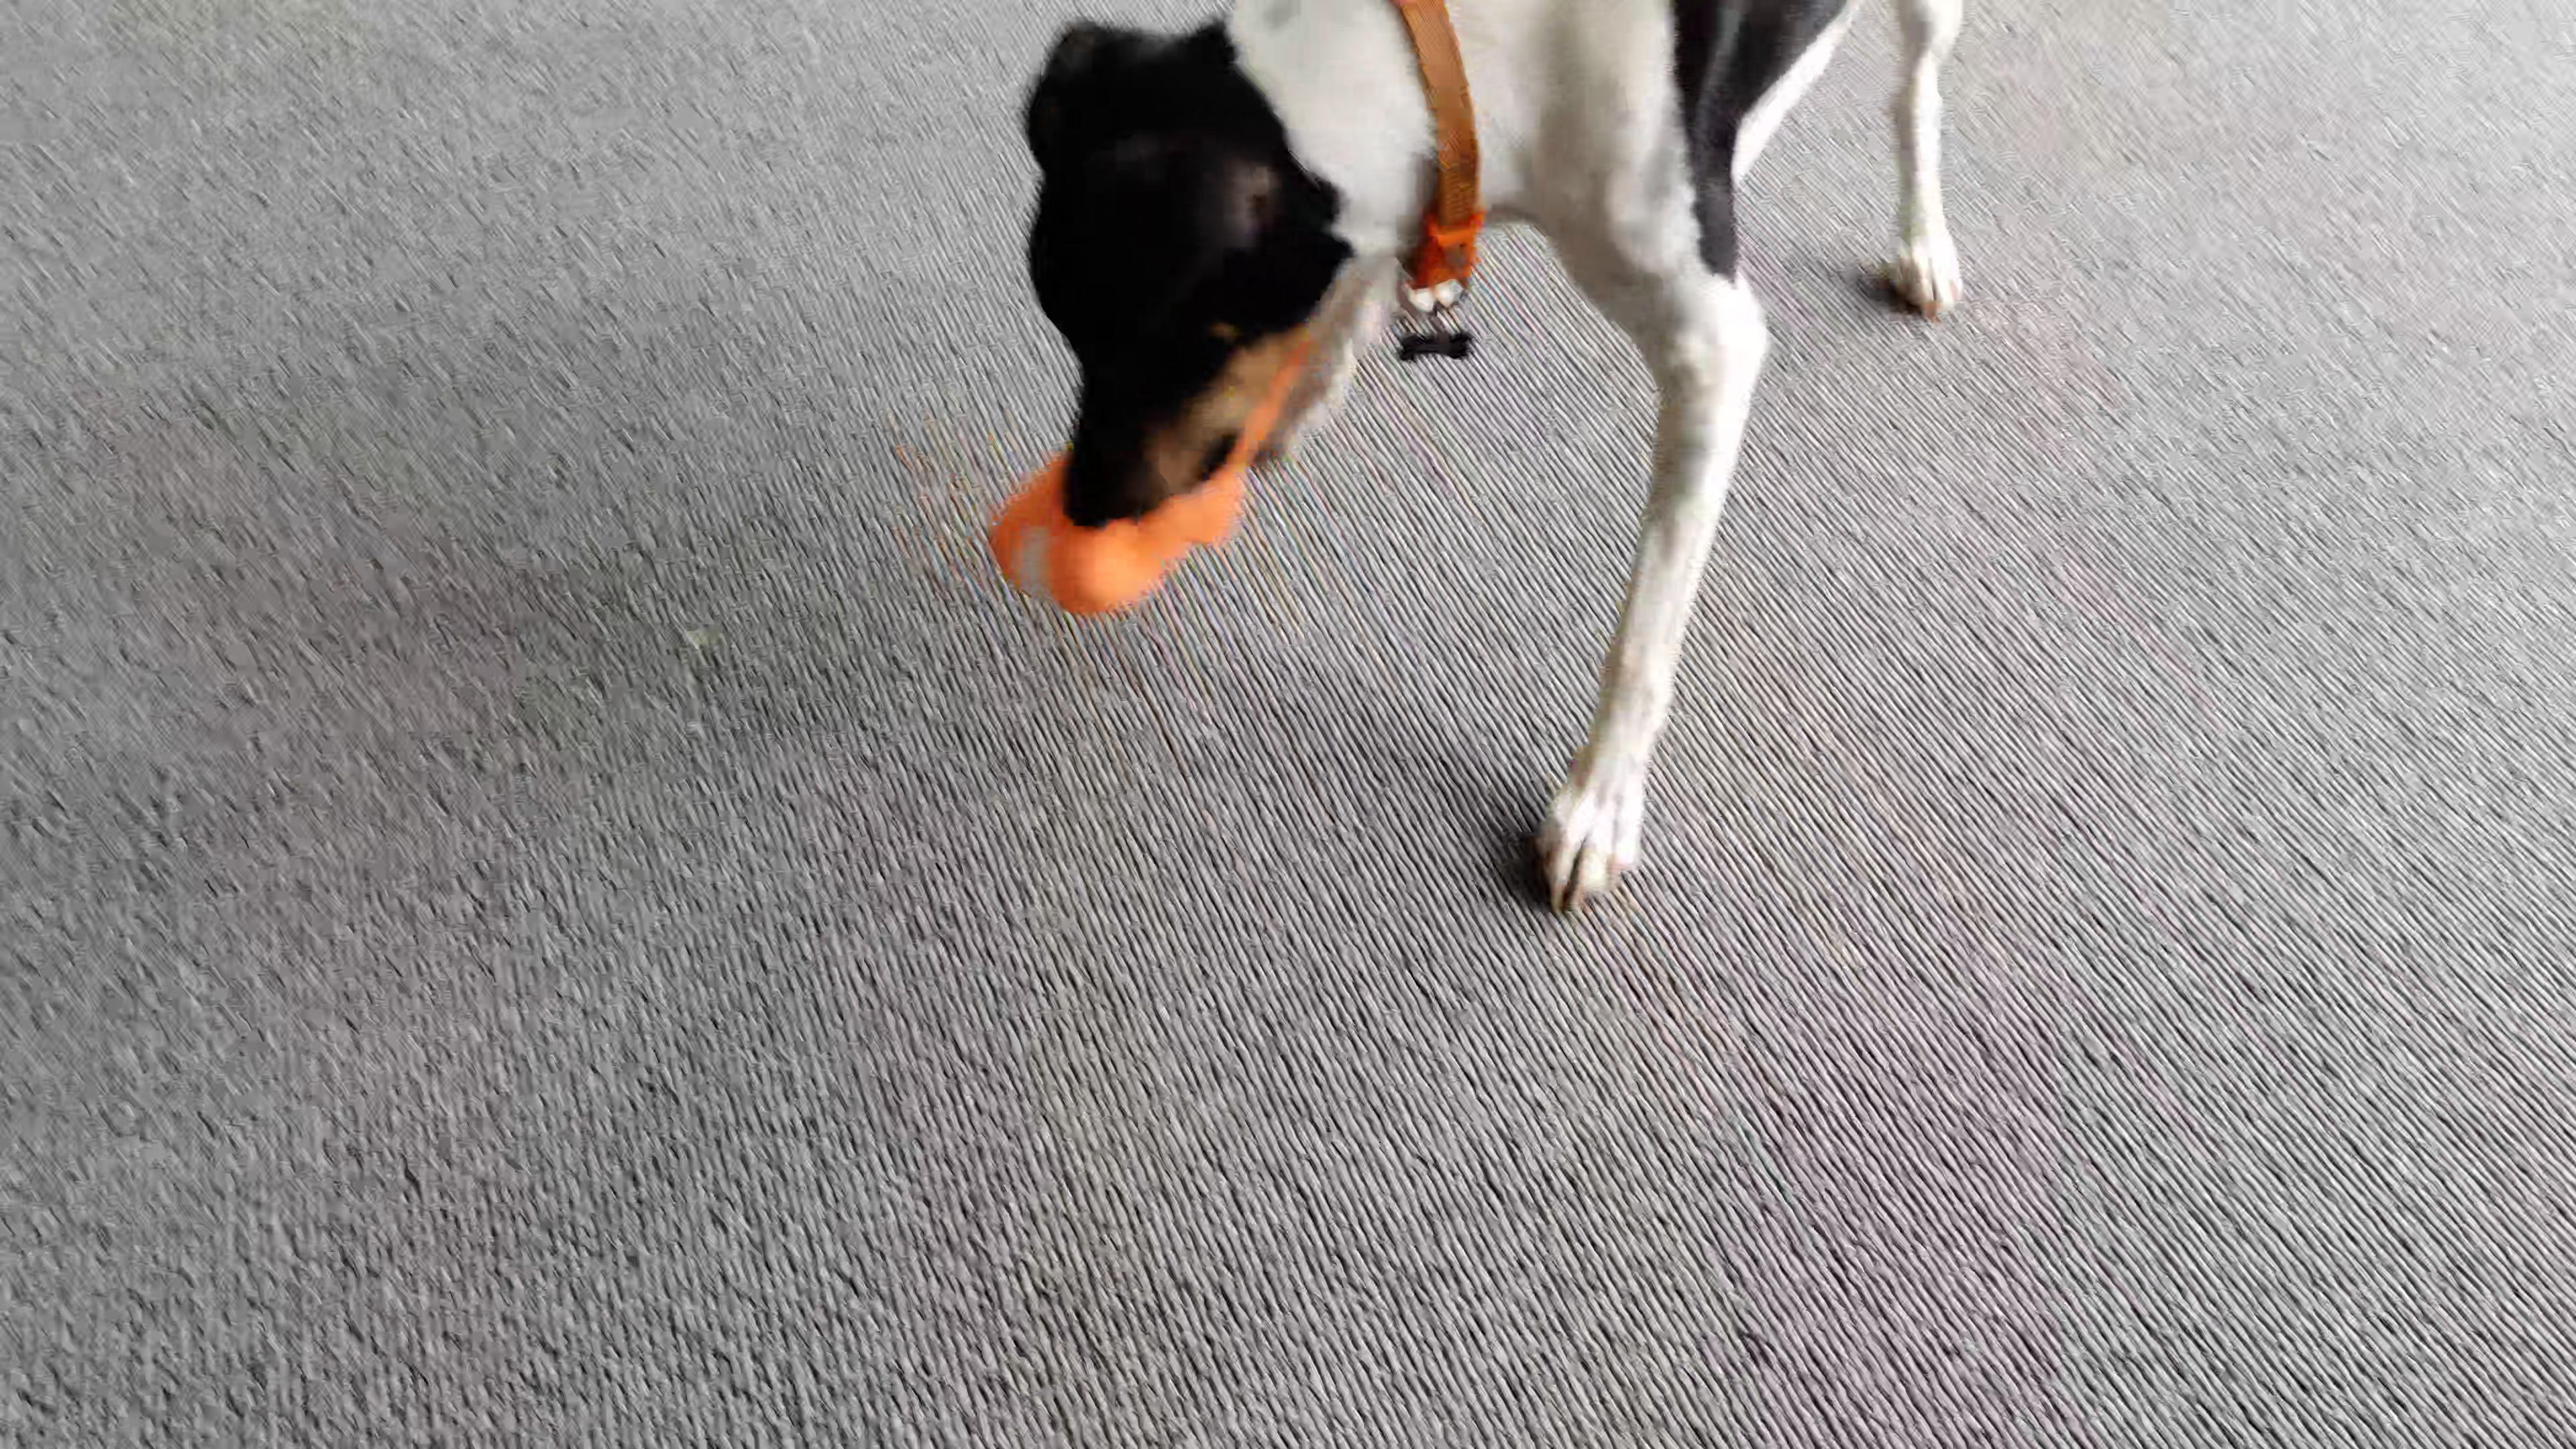Dog: (1005, 0, 1974, 916)
